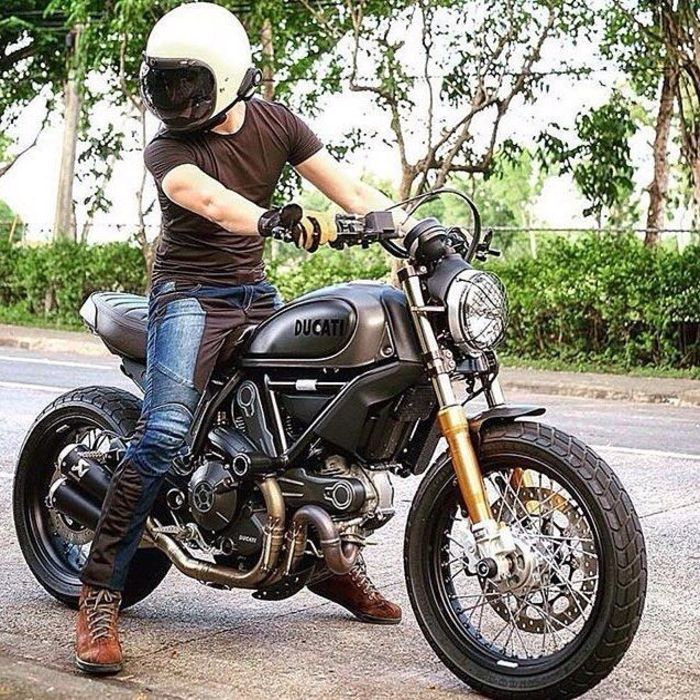h: (134, 2, 262, 137)
